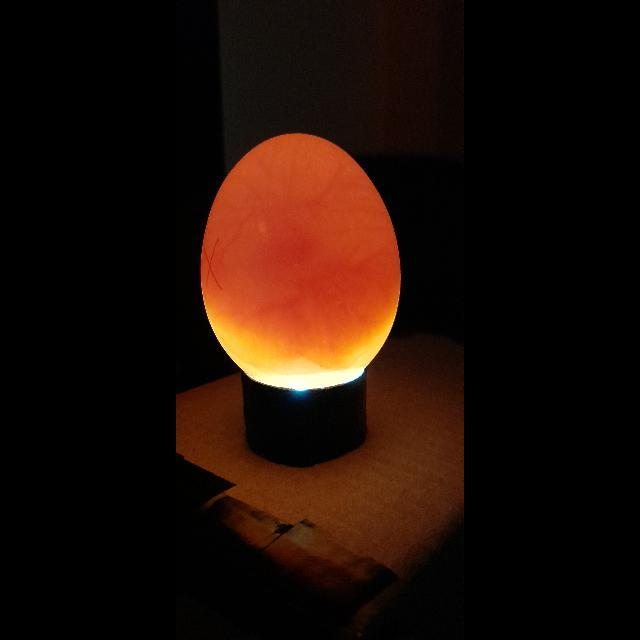Fertile: (195, 131, 405, 393)
